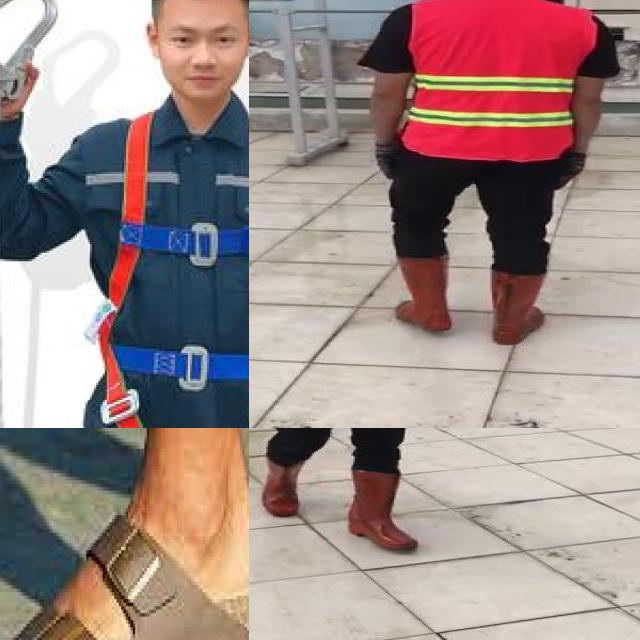Harness: (87, 105, 249, 428)
No_Glasses: (164, 24, 244, 52)
Sandals: (0, 447, 249, 640)
boots: (348, 469, 417, 551), (394, 255, 455, 332), (490, 269, 547, 349), (264, 455, 302, 518)
hand_glove: (551, 151, 588, 189), (369, 144, 402, 179)
person: (365, 0, 611, 358), (249, 428, 475, 557)
vest: (404, 0, 593, 158)
